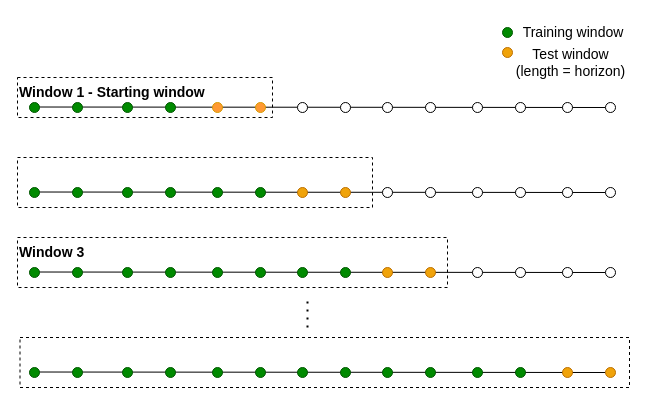
Image size: 647x405. Some labels were removed from this diagram. Here are the shapes that lost their labels. From the top down, the centre of each, then its label:
point 194,182: Window 2
point 324,362: Window N
